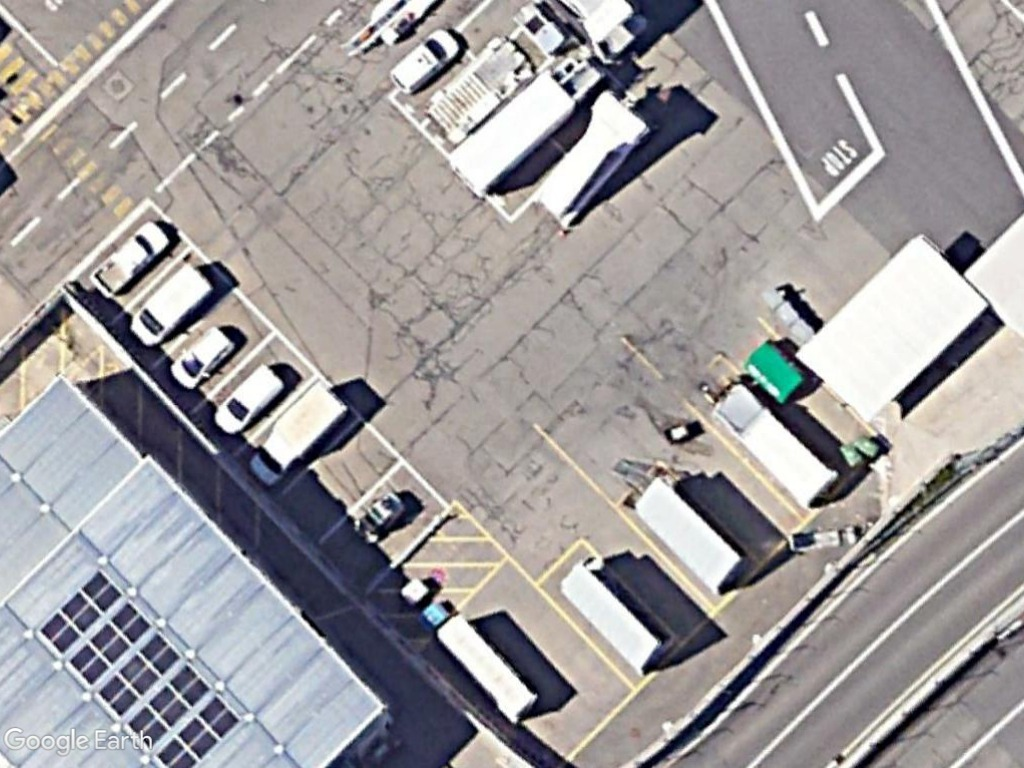longvehicle: (414, 600, 542, 726)
others: (87, 218, 171, 303)
stairtruck: (531, 86, 645, 235)
truck: (248, 376, 349, 487)
van: (131, 258, 212, 348), (387, 23, 464, 97), (211, 360, 283, 439), (167, 321, 237, 396)
